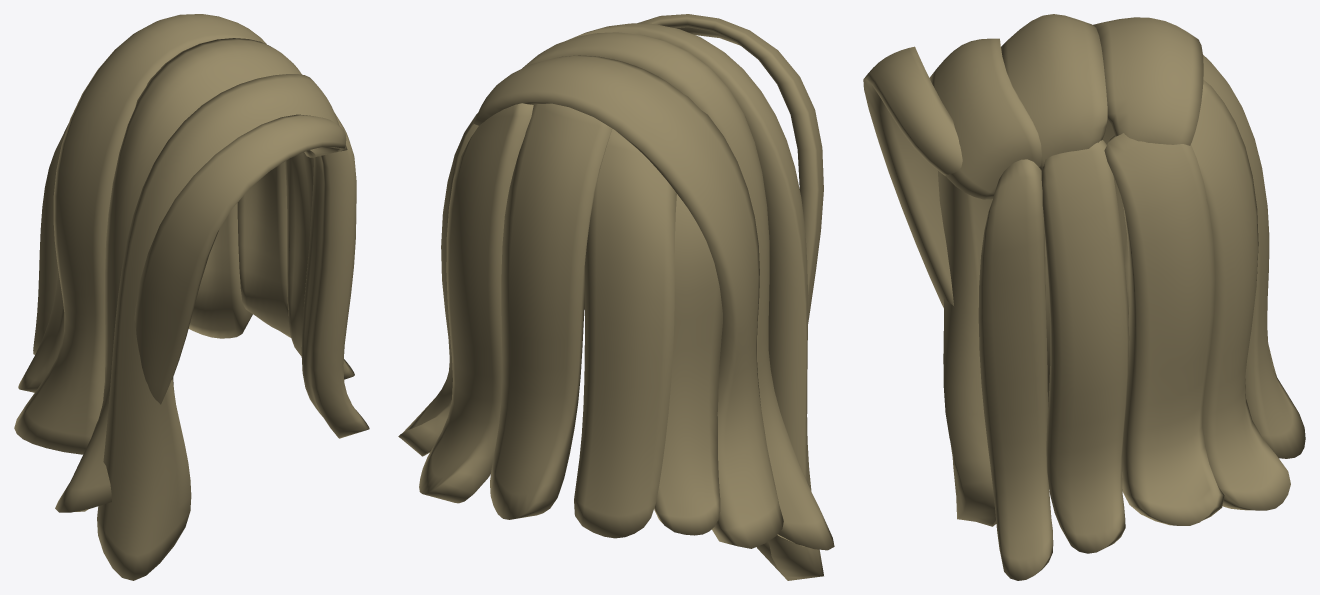
File: head5.glb
3 renders of one model, left to right at view 1: azimuth 30°, elevation 25°; view 2: azimuth 150°, elevation 25°; view 3: azimuth 270°, elevation 25°, orthographic. The views are drawn at different scales.
Visible parts, largest first — view 1: KW_HairBand01, KW_HairBand05, KW_HairBand03, KW_HairBand02, KW_HairBand04, KW_HairBand07, KW_HairBand08, KW_HairBand06, KW_HairBand10, KW_HairBand11; view 2: KW_HairBand05, KW_HairBand09, KW_HairBand10, KW_HairBand08, KW_HairBand01, KW_HairBand11, KW_HairBand02, KW_HairBand03, KW_HairBand07; view 3: KW_HairBand07, KW_HairBand06, KW_HairBand04, KW_HairBand01, KW_HairBand08, KW_HairBand03, KW_HairBand05, KW_HairBand02, KW_HairBand09.
Boxes of the visible parts, x1,y1,x2,y2 form: KW_HairBand01: (97,74,347,580); KW_HairBand05: (14,14,266,454); KW_HairBand03: (134,114,346,404); KW_HairBand02: (55,38,301,512); KW_HairBand04: (301,113,369,438); KW_HairBand07: (237,162,290,337); KW_HairBand08: (188,203,252,338); KW_HairBand06: (285,152,354,379); KW_HairBand10: (33,123,68,354); KW_HairBand11: (18,268,64,392); KW_HairBand05: (473,55,783,548); KW_HairBand09: (490,103,612,519); KW_HairBand10: (574,128,676,538); KW_HairBand08: (419,103,533,503); KW_HairBand01: (568,23,823,580); KW_HairBand11: (654,194,722,535); KW_HairBand02: (522,32,834,550); KW_HairBand03: (637,14,823,323); KW_HairBand07: (398,113,478,456); KW_HairBand07: (1104,133,1224,525); KW_HairBand06: (1041,140,1129,553); KW_HairBand04: (978,159,1053,580); KW_HairBand01: (929,38,1041,526); KW_HairBand08: (1191,80,1290,510); KW_HairBand03: (863,46,962,307); KW_HairBand05: (1093,17,1203,317); KW_HairBand02: (1001,14,1107,406); KW_HairBand09: (1203,55,1305,458).
Size of the model in its own units: 68.32 by 96.8 by 69.03.
